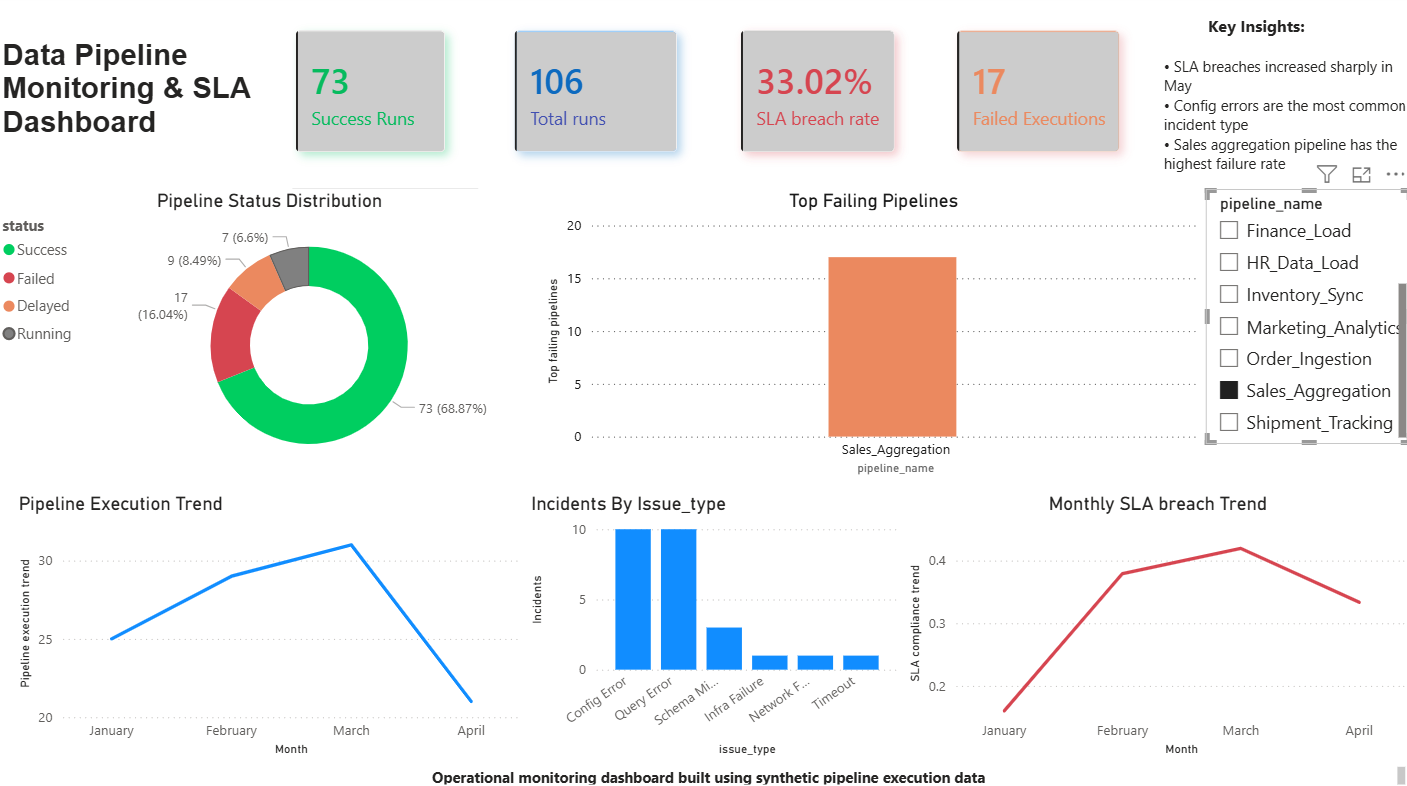

Layout of this report page (visuals, bound fields, positions):
{"tool":"powerbi","page":{"name":"Page 1","canvas":[1280,720],"ordinal":0},"visuals":[{"type":"cardVisual","fields":{"Data":["pipeline_runs.Success Runs"]},"box":[237.2,0,201.2,176.7],"z":0},{"type":"cardVisual","fields":{"Data":["pipeline_runs.Total runs"]},"box":[434.9,0,214,176.7],"z":1000},{"type":"cardVisual","fields":{"Data":["sla_tracking.SLA breach %"]},"box":[639.5,0,205.8,176.7],"z":2000},{"type":"cardVisual","fields":{"Data":["pipeline_runs.Failed Runs"]},"box":[836,0,214,176.7],"z":3000},{"type":"lineChart","title":"Pipeline Execution Trend","fields":{"Category":["pipeline_runs.run_date.Variation.Date Hierarchy.Month","pipeline_runs.run_date.Variation.Date Hierarchy.Day"],"Y":["pipeline_runs.Total runs"]},"box":[15.1,451.2,462.8,243],"z":4000},{"type":"lineChart","title":"Monthly SLA breach Trend","fields":{"Category":["pipeline_runs.run_date.Variation.Date Hierarchy.Month","pipeline_runs.run_date.Variation.Date Hierarchy.Day"],"Y":["sla_tracking.SLA breach %"]},"box":[819.8,451.2,460.5,243],"z":5000},{"type":"donutChart","title":"Pipeline Status Distribution","fields":{"Category":["pipeline_runs.status"],"Y":["CountNonNull(sla_tracking.run_id)"]},"box":[0,176.7,493,264],"z":6000},{"type":"clusteredColumnChart","title":"Top Failing Pipelines","fields":{"Y":["pipeline_runs.Failed Runs"],"Category":["pipelines.pipeline_name"]},"box":[493,176.7,600,264],"z":7000},{"type":"clusteredColumnChart","title":"Incidents By Issue_type","fields":{"Category":["incidents.issue_type"],"Y":["CountNonNull(incidents.incident_id)"]},"box":[477.9,451.2,341.9,243],"z":8000},{"type":"slicer","fields":{"Values":["pipelines.pipeline_name"]},"box":[1093,176.7,187.2,230.2],"z":9000},{"type":"textbox","box":[0,0,267.4,176.7],"z":10000},{"type":"textbox","box":[1050,14,230.2,162.8],"z":11000},{"type":"textbox","box":[15.1,694.2,1265.1,25.6],"z":12000}]}

Visuals, with their boxes in screenshot pixels (x1, y1, x2, y2), scaled from the page's 1280x720 canvas onto the 1407x786 screenshot:
cardVisual - pipeline_runs.Success Runs: bbox=[261, 0, 482, 193]
cardVisual - pipeline_runs.Total runs: bbox=[478, 0, 713, 193]
cardVisual - sla_tracking.SLA breach %: bbox=[703, 0, 929, 193]
cardVisual - pipeline_runs.Failed Runs: bbox=[919, 0, 1154, 193]
"Pipeline Execution Trend" lineChart: bbox=[17, 493, 525, 758]
"Monthly SLA breach Trend" lineChart: bbox=[901, 493, 1406, 758]
"Pipeline Status Distribution" donutChart: bbox=[0, 193, 542, 481]
"Top Failing Pipelines" clusteredColumnChart: bbox=[542, 193, 1201, 481]
"Incidents By Issue_type" clusteredColumnChart: bbox=[525, 493, 901, 758]
slicer - pipelines.pipeline_name: bbox=[1201, 193, 1406, 444]
textbox: bbox=[0, 0, 294, 193]
textbox: bbox=[1154, 15, 1406, 193]
textbox: bbox=[17, 758, 1406, 785]
